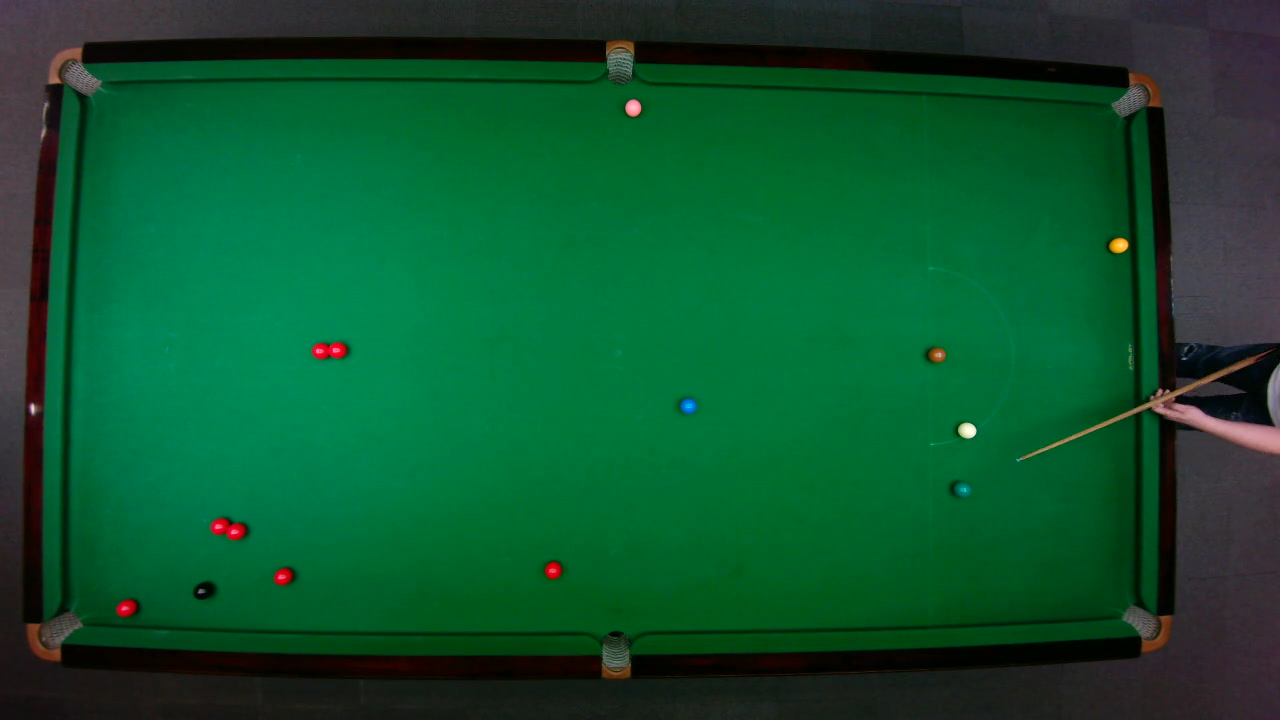bag: (25, 609, 83, 662), (45, 46, 102, 96), (1119, 603, 1172, 652), (1108, 71, 1161, 118), (600, 629, 630, 680), (605, 38, 633, 85)
black: (192, 581, 212, 600)
blue: (678, 396, 697, 414)
brown: (926, 346, 945, 362)
cue: (1014, 343, 1280, 463)
green: (951, 480, 971, 497)
pink: (623, 97, 642, 117)
red: (114, 597, 137, 617), (542, 559, 563, 580), (324, 340, 347, 359), (224, 521, 247, 540), (208, 516, 230, 535), (310, 341, 331, 360), (272, 566, 293, 585)
white: (956, 420, 976, 438)
yellow: (1107, 236, 1129, 253)
zone: (926, 266, 1014, 439)
